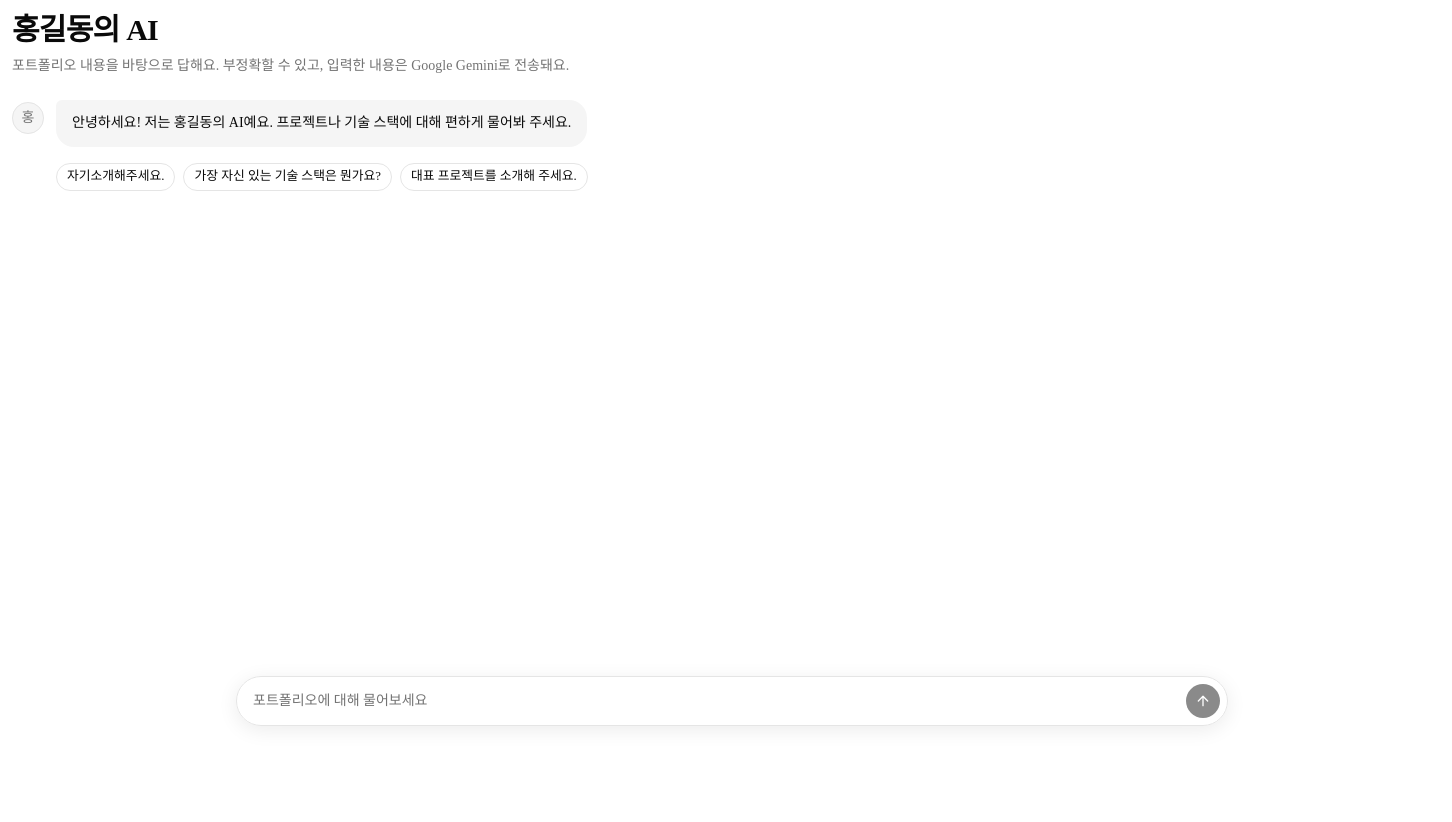
Scenario: ChatPanel › 쿼터 초과(429 quota_exceeded)도 retryAfter초 동안 입력을 막는다
Step 1. Type "안녕" into the field named "질문" → x=715, y=701, box x1=253 y1=683 x2=1177 y2=719
Then press Enter
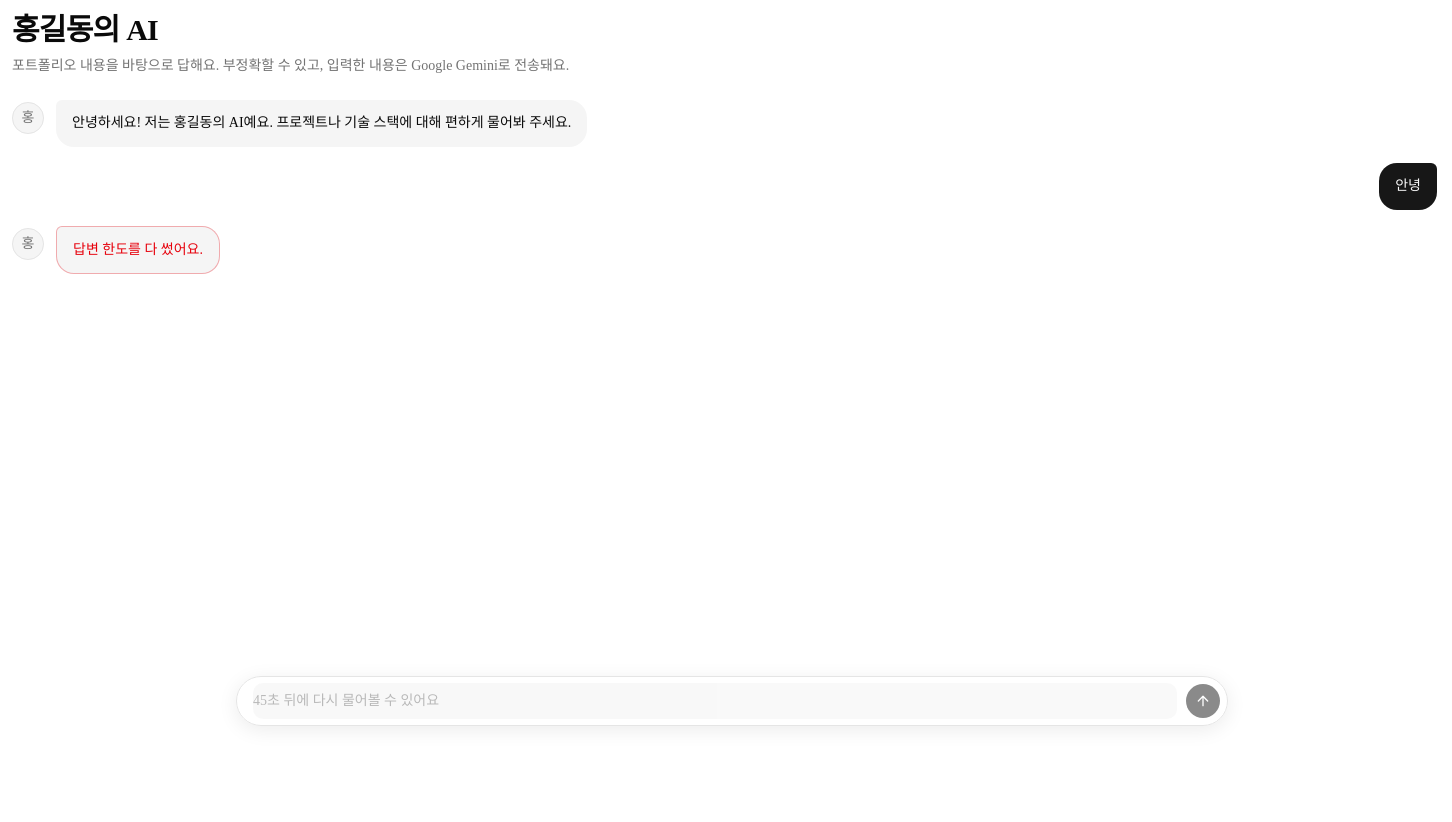
Expected: the message reads "답변 한도를 다 썼어요.", x1=73 y1=242 x2=203 y2=256
Expected: the field named "질문" is disabled, x1=253 y1=683 x2=1177 y2=719
